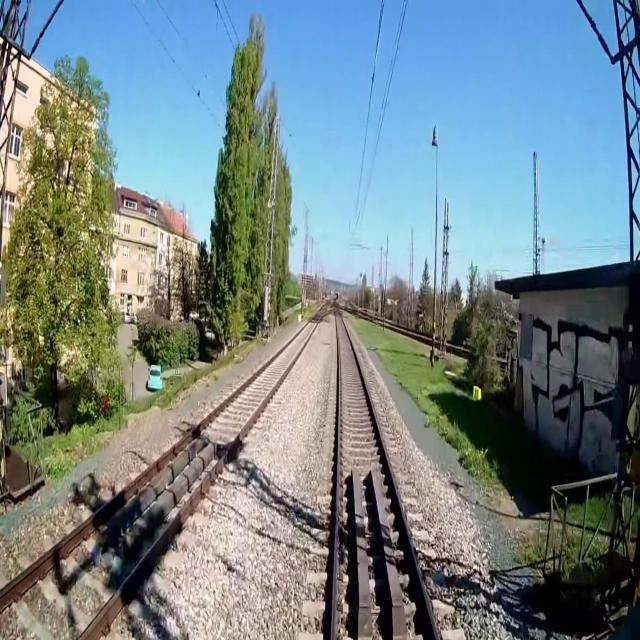rail-track: (336, 312, 434, 639)
